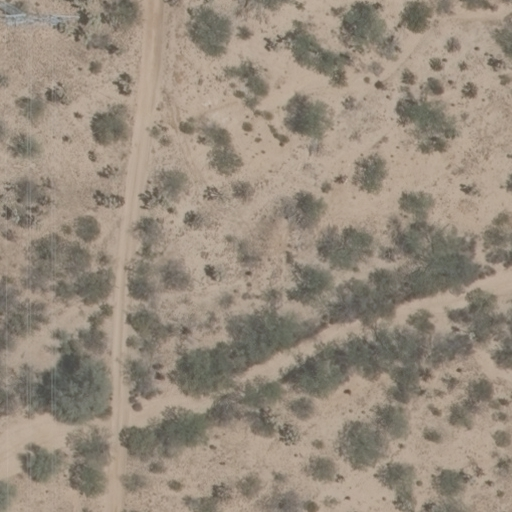TT: (2, 4, 112, 60)
